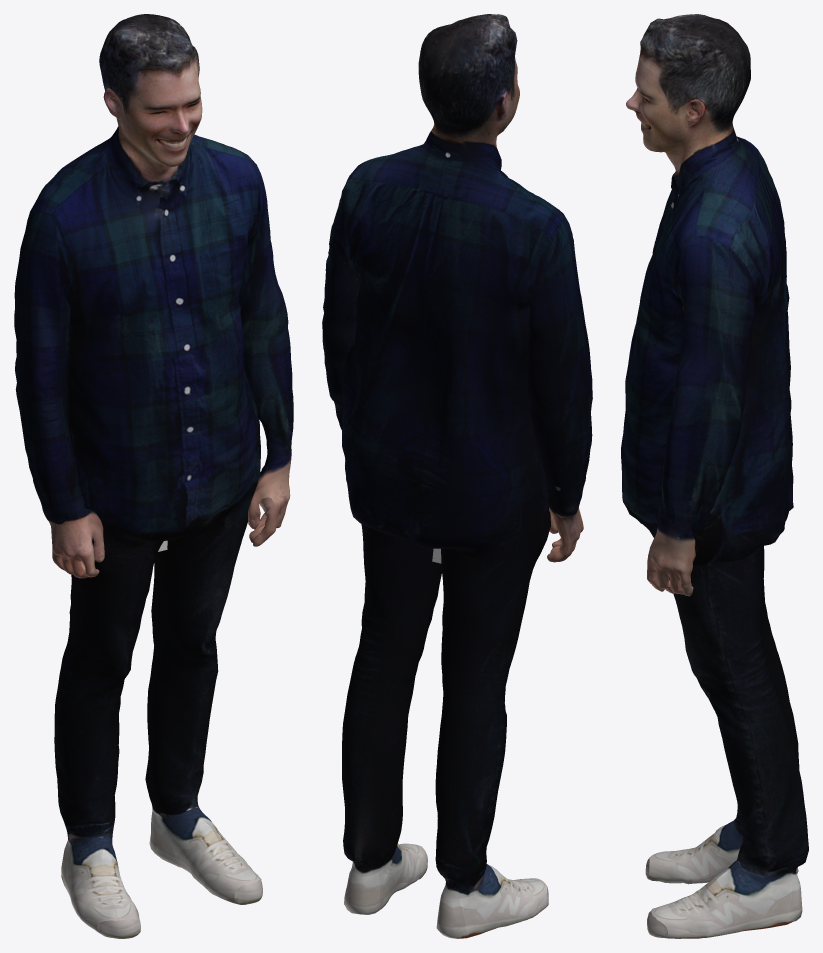
The model's file is patrick.gltf.
3 views of the same model, side by side, from view 1: azimuth 30°, elevation 25°; view 2: azimuth 150°, elevation 25°; view 3: azimuth 270°, elevation 25° (orthographic).
Visible parts, largest first — view 1: node-0; view 2: node-0; view 3: node-0.
Boxes of the visible parts, x1,y1,x2,y2 form: node-0: (14,14,293,938); node-0: (322,14,592,938); node-0: (621,14,808,938).
Bounding box in the file's own units: 19.67 × 65.12 × 12.67.
Materials: 2 (1 with a texture image).
